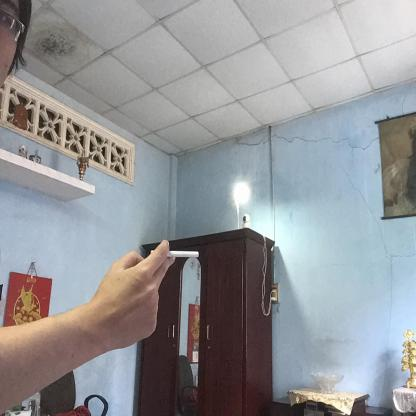cigarette: (167, 249, 200, 260)
